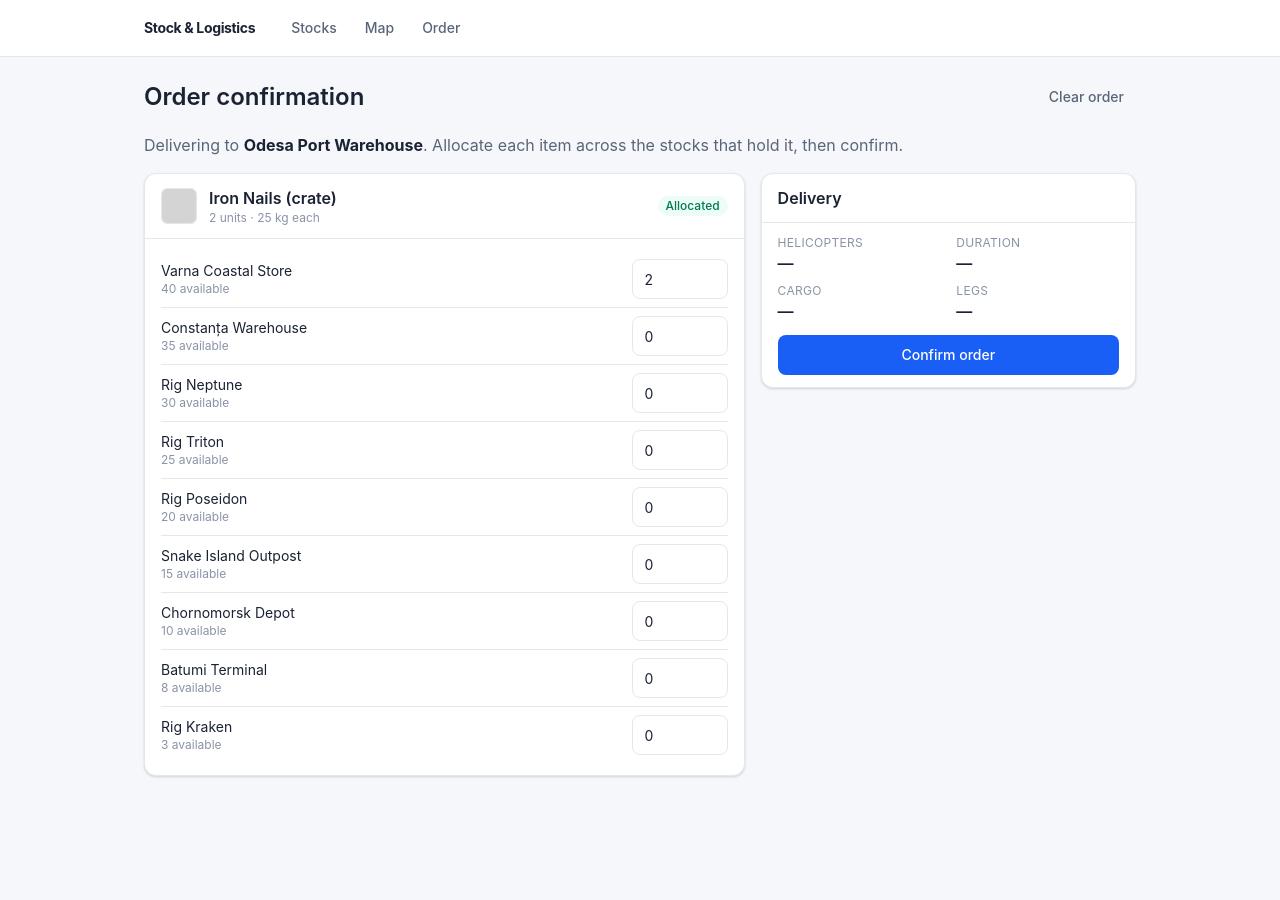
Test case: OrderPage › auto-allocates a cart line and places the order
expect the heading "Iron Nails (crate)" is shown: met, box [209,186,337,210]
expect the text "Allocated" is shown: met, box [658,196,728,216]
Click the button "Confirm order".
click(948, 355)  # box [778,335,1119,375]
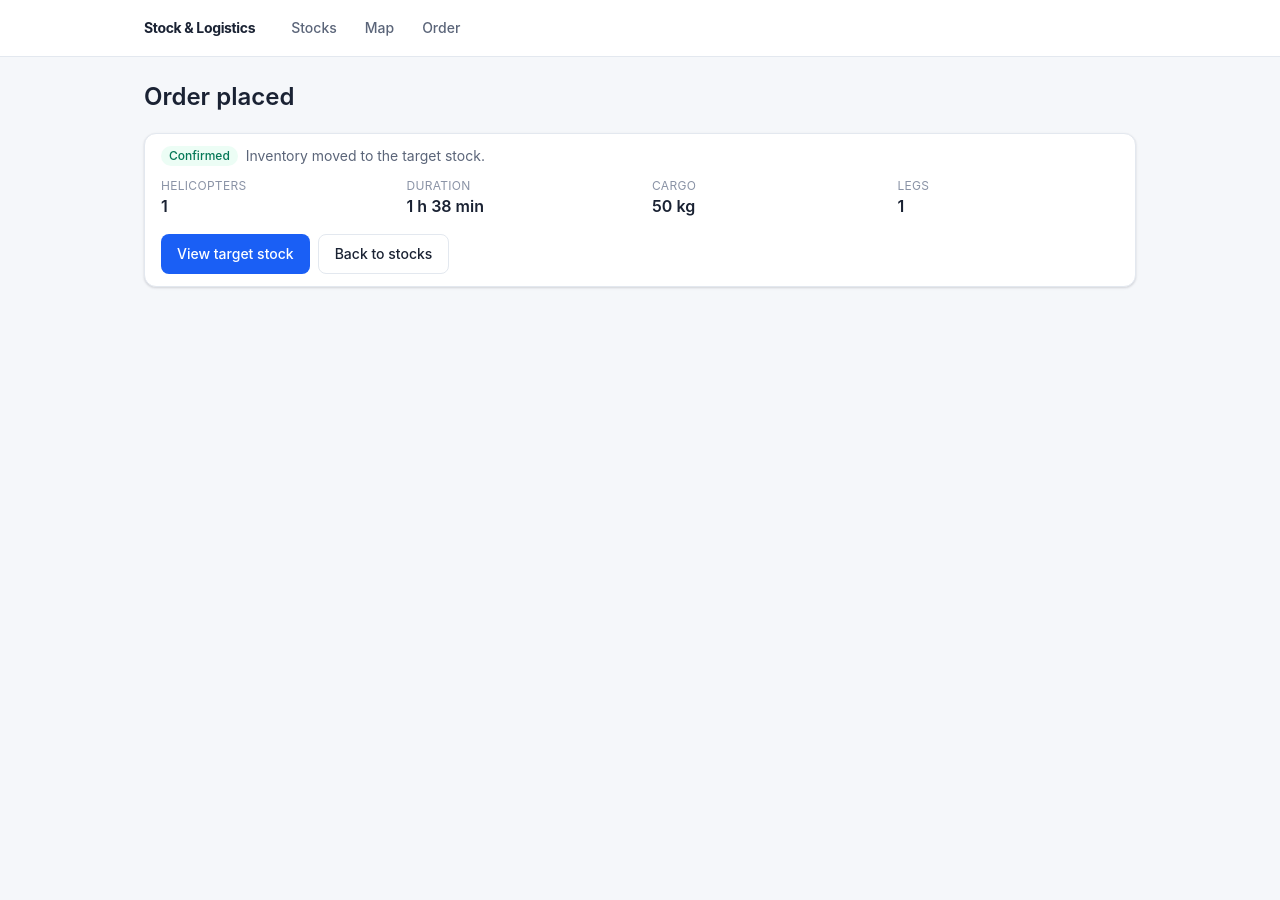
expect the heading "Order placed" is shown: met, box [144,81,294,113]
